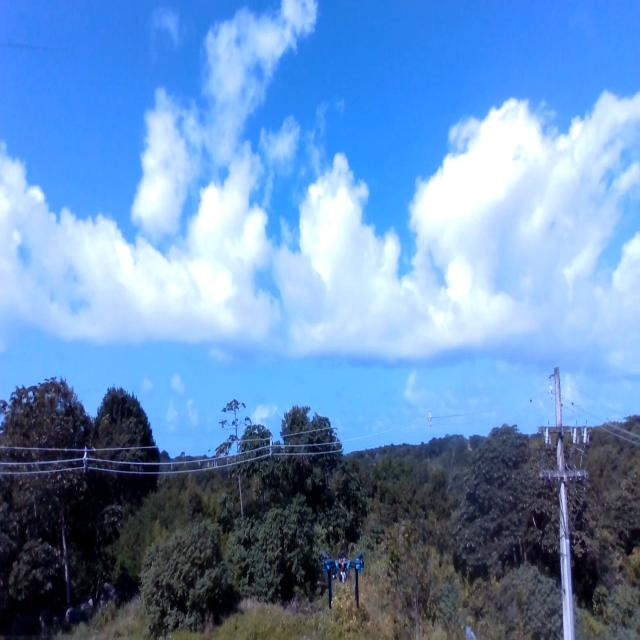-uav-: (314, 540, 372, 616)
